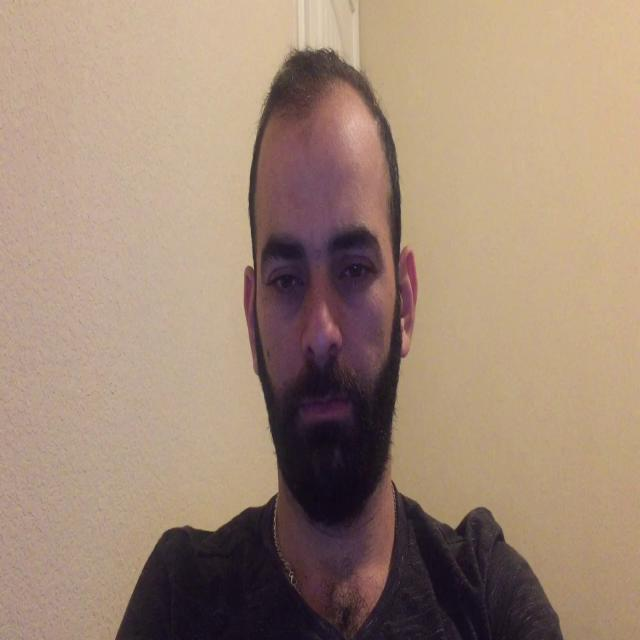sem_oculos: (238, 212, 410, 308)
